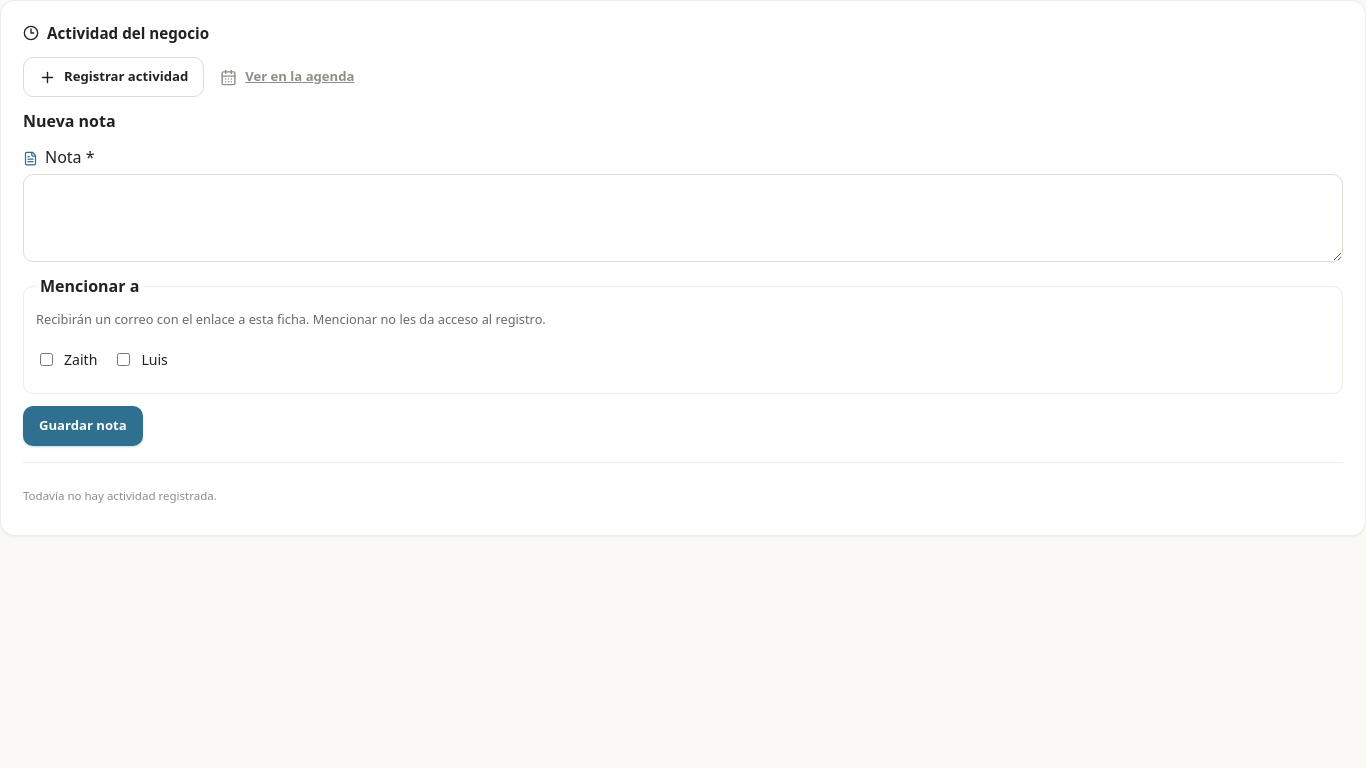
Scenario: registrar abre el diálogo de la agenda con el responsable del negocio y la casilla de hecha
Click the button "Registrar actividad" at (114, 77), box [23,57,204,97]
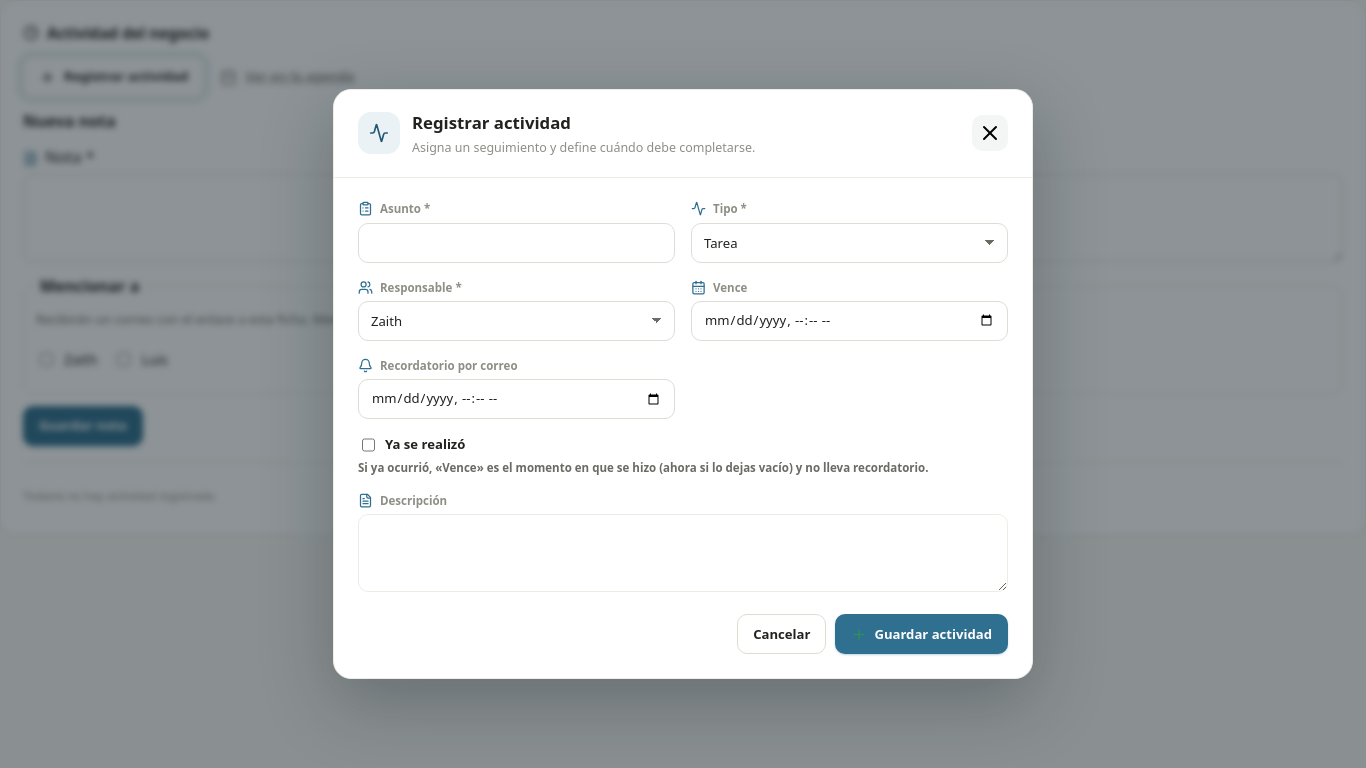
Now the dropdown named "Responsable asignado" shows "Zaith", box [358,301,675,341]
Now the field labelled "Recordatorio por correo" is shown, box [358,379,675,419]
Now the checkbox labelled "Ya se realizó" is shown, box [362,438,375,452]
Type "Enviar propuesta" into the field labelled "Asunto" at (516, 243), box [358,223,675,263]
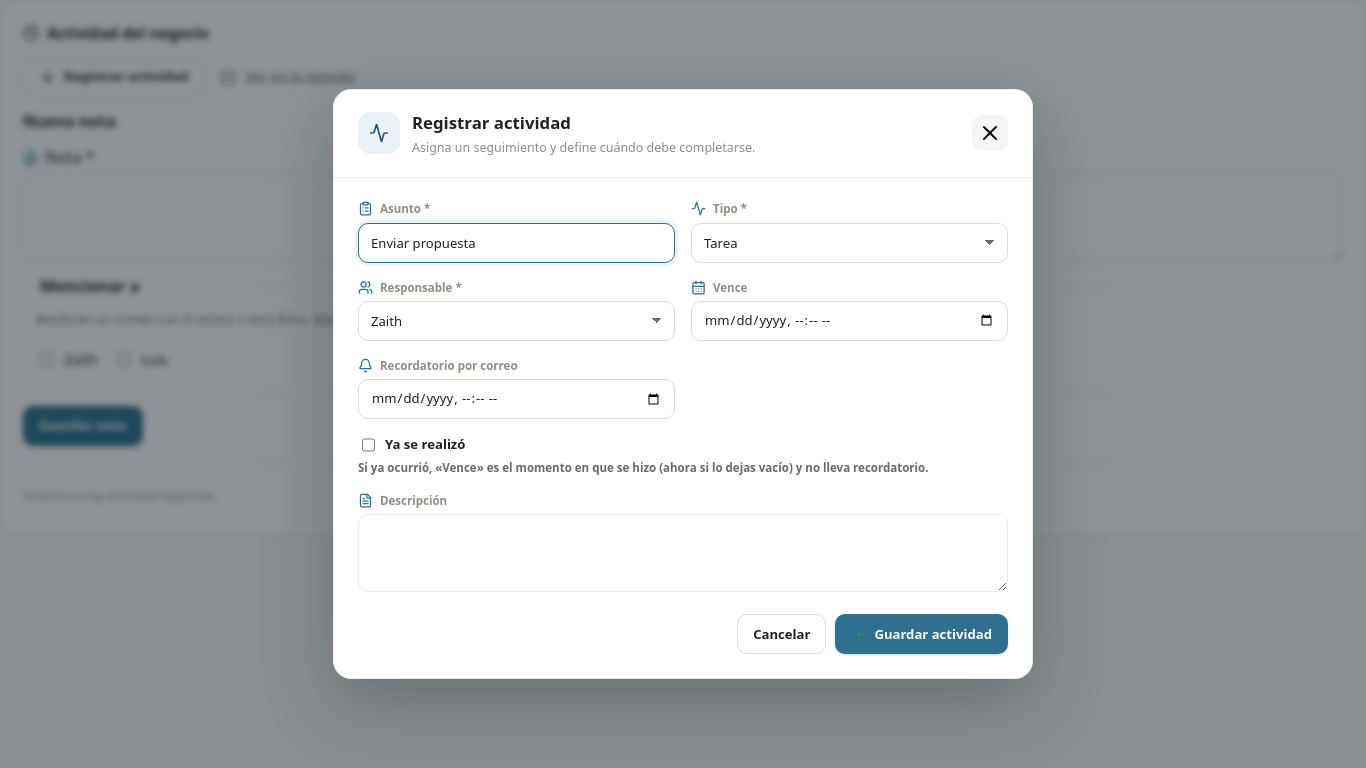
# Un error del API se ve dentro del diálogo y no borra lo escrito.
Click the button "Guardar actividad" at (922, 634), box [835,614,1008,654]
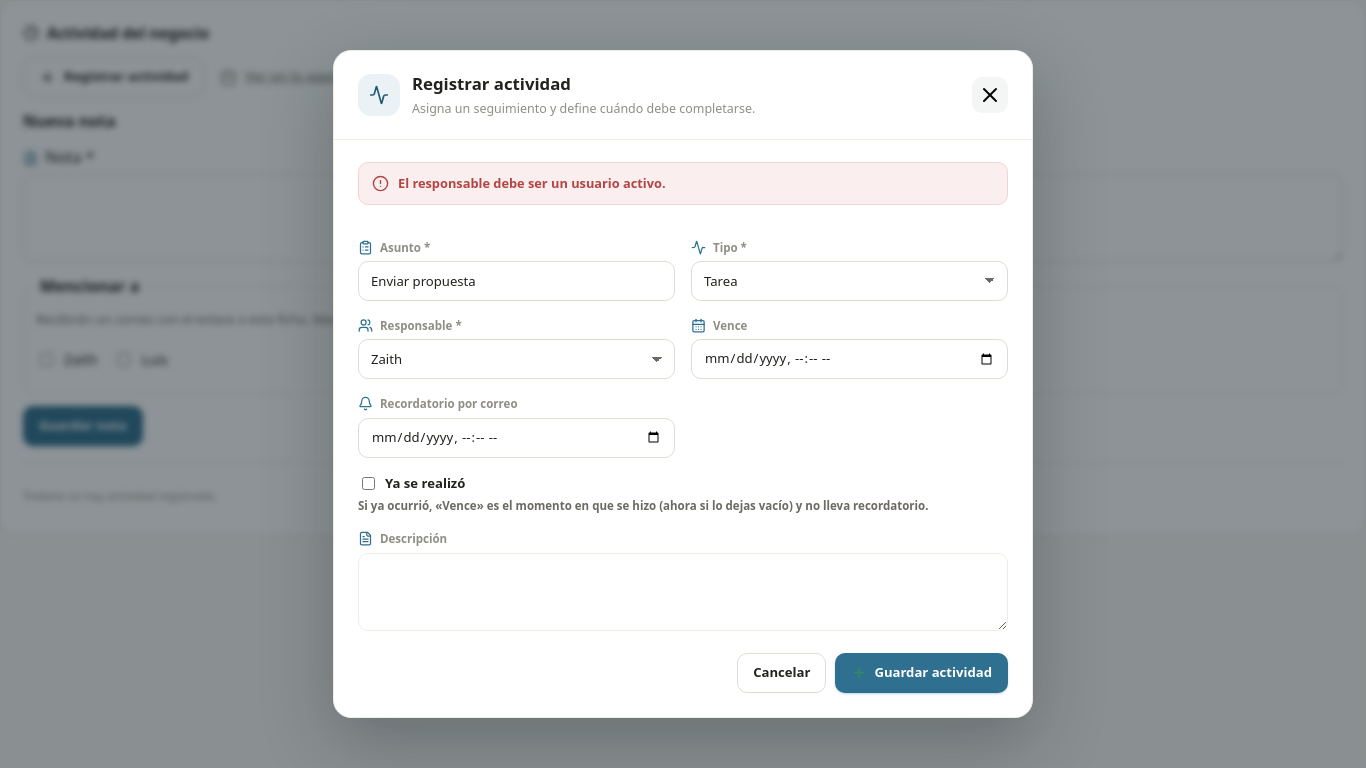
Now the message reads "El responsable debe ser un usuario activo.", box [398,174,666,192]
Click the button "Guardar actividad" at (922, 673), box [835,653,1008,693]
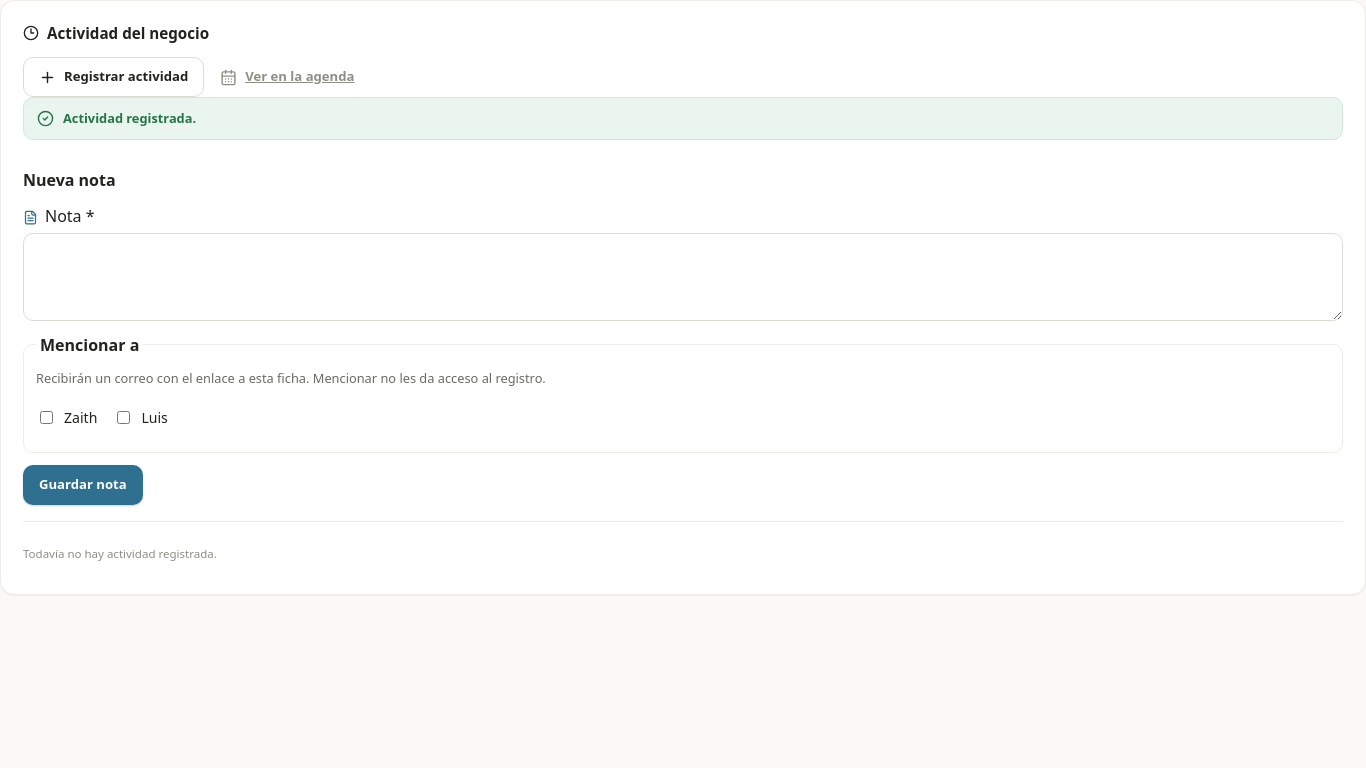
Now the text "Actividad registrada." is shown, box [63,109,196,128]
Now the dialog is gone
